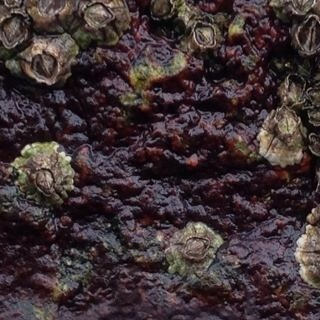Barnacle: (0, 14, 25, 45), (31, 51, 59, 78), (297, 18, 319, 49), (87, 1, 112, 27), (272, 108, 295, 136), (182, 236, 210, 256), (193, 22, 215, 47), (37, 0, 65, 19), (284, 74, 303, 101), (36, 167, 54, 191), (152, 0, 173, 18), (307, 134, 319, 153), (307, 106, 319, 124), (307, 69, 319, 84), (308, 87, 319, 102)
